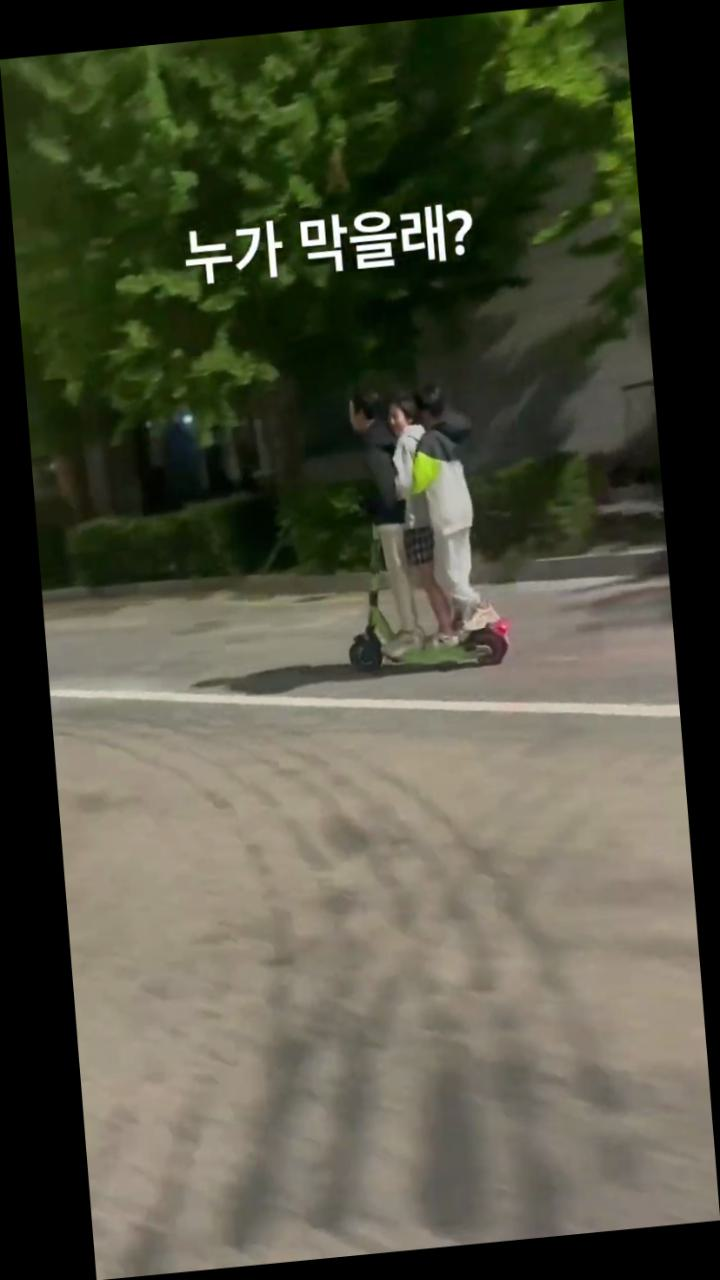multiple: (313, 366, 524, 687)
